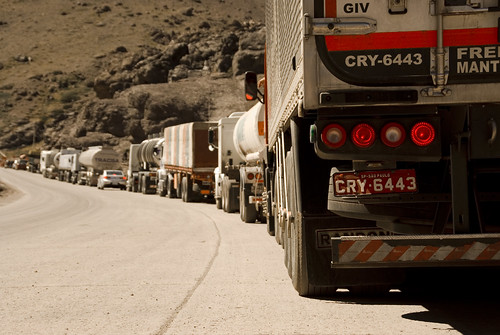car: (97, 168, 128, 192)
road: (1, 173, 337, 332)
rocks: (58, 23, 259, 122)
truck: (266, 1, 493, 286), (214, 111, 268, 229), (156, 123, 219, 201), (124, 139, 162, 192), (67, 146, 109, 187)
